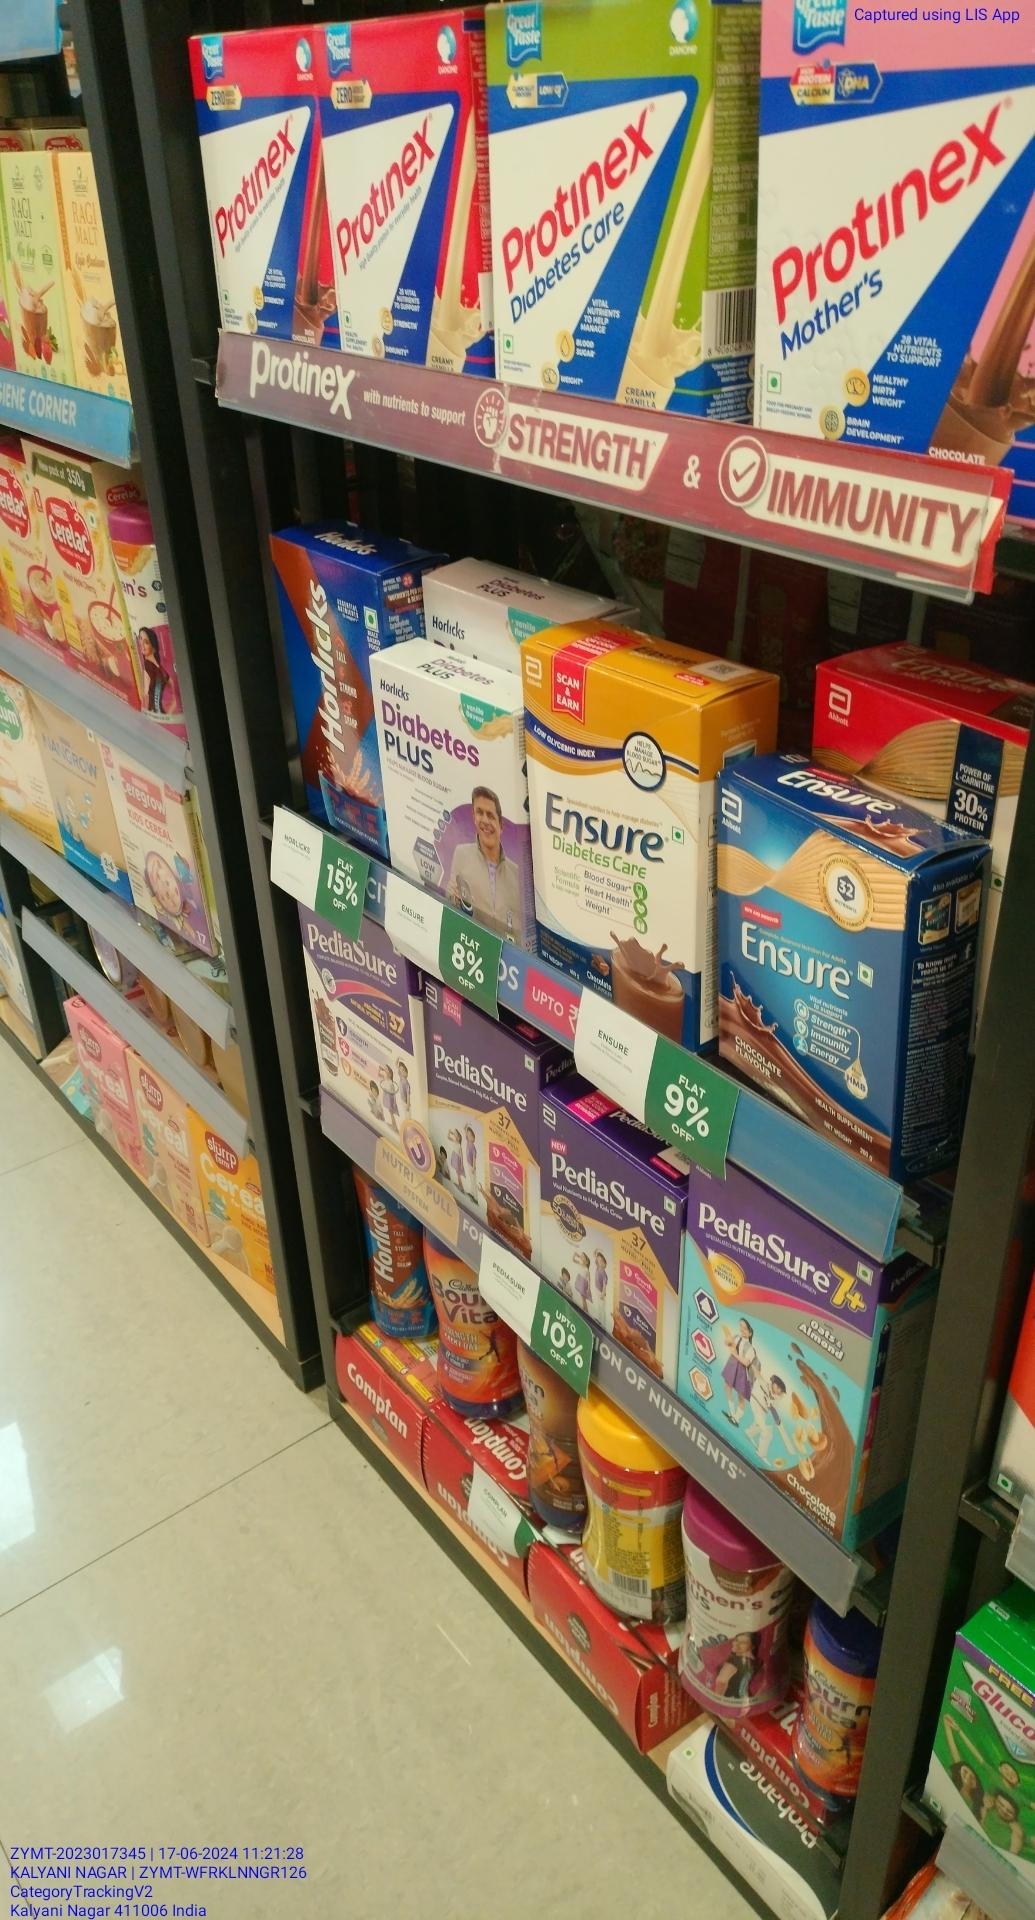HORLICK_CHOCOLATE_500_G_PACK: (277, 541, 379, 837)
PEDIASURE_7_PLUS_CHOCOLATE_400_G_PACK: (686, 1157, 858, 1510)
PEDIASURE_CHOCOLATE_500_G_PACK: (533, 1100, 676, 1382), (427, 991, 526, 1235)
PROTINEX_VANILLA_400_G_JAR: (488, 5, 706, 410)
